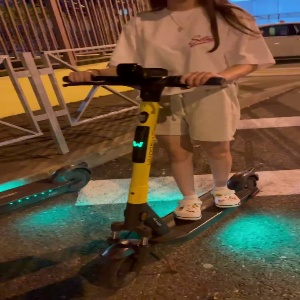human on a scooter: (61, 1, 278, 289)
